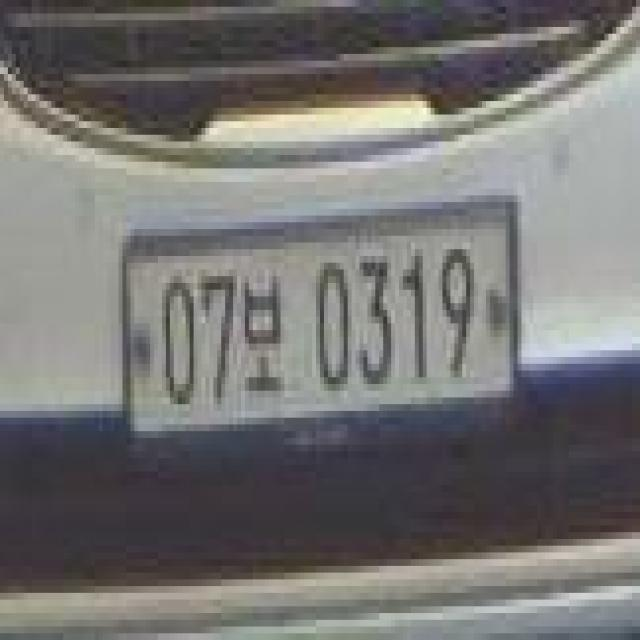illegal_plate: (118, 193, 522, 462)
